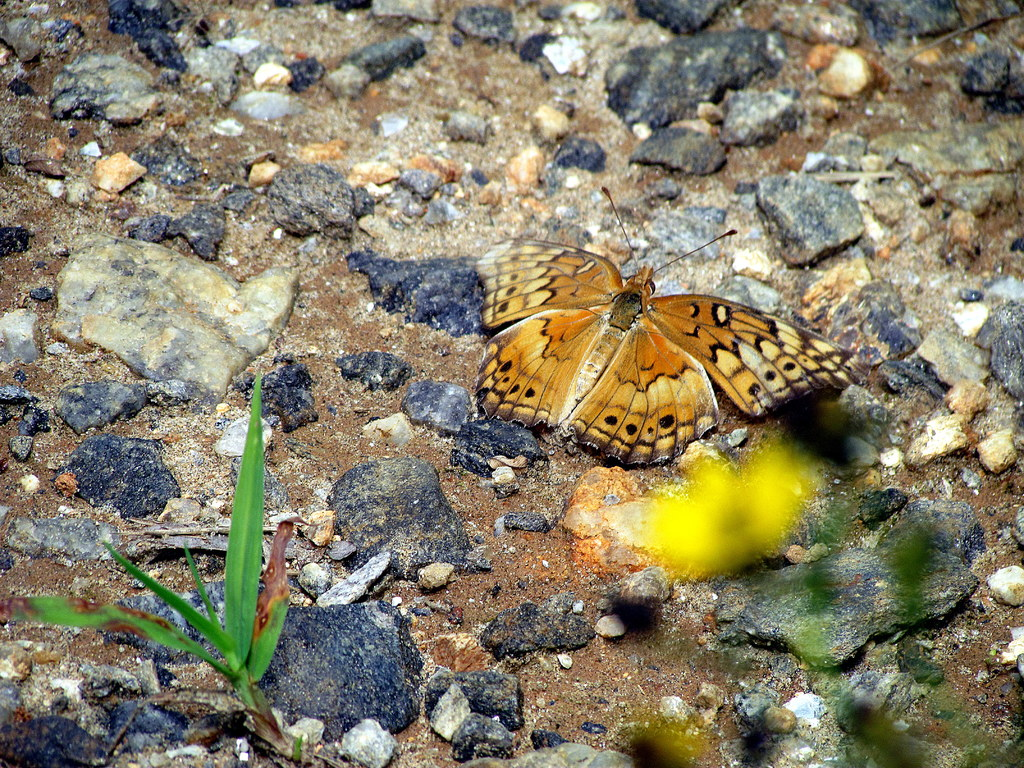Butterfly: (458, 212, 866, 479)
